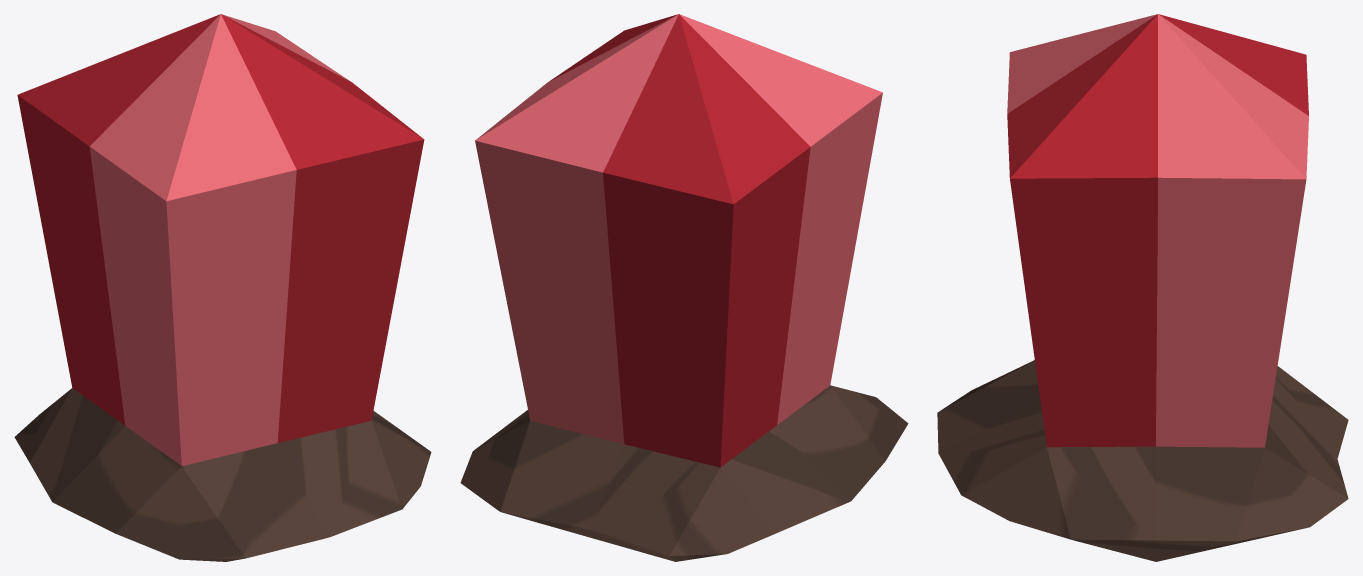
Rendered from Model_Mineral2.fbx.
3 renders of one model, left to right at view 1: azimuth 30°, elevation 25°; view 2: azimuth 150°, elevation 25°; view 3: azimuth 270°, elevation 25°, orthographic.
Visible parts, largest first — view 1: Cube.001; view 2: Cube.001; view 3: Cube.001.
Boxes of the visible parts, <box> form: Cube.001: <box>14,14,431,561</box>; Cube.001: <box>460,14,908,561</box>; Cube.001: <box>937,14,1348,561</box>.
Size of the model in its own units: 300 by 467 by 319.
